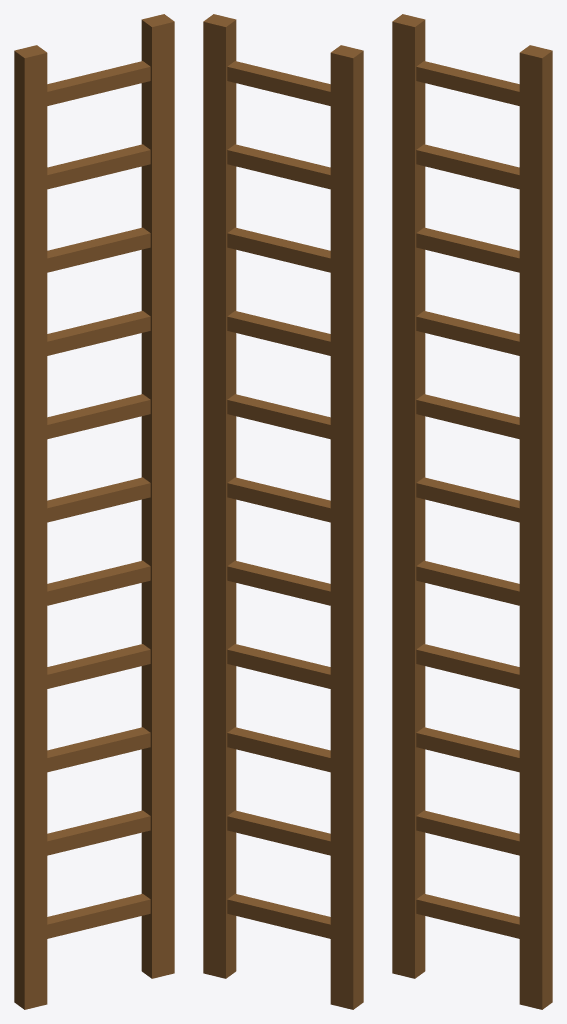
File: ladder.glb
3 views of the same model, side by side, from view 1: azimuth 30°, elevation 25°; view 2: azimuth 150°, elevation 25°; view 3: azimuth 330°, elevation 25° (orthographic).
Parts seen in each view (by area): view 1: Rail, _MeshInstance3D_7, _MeshInstance3D_8, _MeshInstance3D_9, _MeshInstance3D_16, Rung, _MeshInstance3D_15, _MeshInstance3D_17, _MeshInstance3D_10, _MeshInstance3D_12, _MeshInstance3D_13, _MeshInstance3D_14 (+1 smaller); view 2: Rail, _MeshInstance3D_7, _MeshInstance3D_8, _MeshInstance3D_9, _MeshInstance3D_16, Rung, _MeshInstance3D_15, _MeshInstance3D_17, _MeshInstance3D_10, _MeshInstance3D_12, _MeshInstance3D_13, _MeshInstance3D_14 (+1 smaller); view 3: _MeshInstance3D_7, Rail, _MeshInstance3D_8, _MeshInstance3D_9, _MeshInstance3D_16, Rung, _MeshInstance3D_15, _MeshInstance3D_17, _MeshInstance3D_10, _MeshInstance3D_12, _MeshInstance3D_13, _MeshInstance3D_14 (+1 smaller).
Part boxes in pixels (x1,y1,x2,y2): Rail: (14, 45, 47, 1009); _MeshInstance3D_7: (141, 14, 174, 978); _MeshInstance3D_8: (47, 810, 150, 855); _MeshInstance3D_9: (47, 727, 150, 772); _MeshInstance3D_16: (47, 144, 150, 189); Rung: (47, 893, 150, 938); _MeshInstance3D_15: (47, 227, 150, 272); _MeshInstance3D_17: (47, 61, 150, 105); _MeshInstance3D_10: (47, 644, 150, 688); _MeshInstance3D_12: (47, 477, 150, 522); _MeshInstance3D_13: (47, 394, 150, 439); _MeshInstance3D_14: (47, 311, 150, 355); Rail: (330, 45, 363, 1009); _MeshInstance3D_7: (203, 14, 236, 978); _MeshInstance3D_8: (227, 810, 330, 855); _MeshInstance3D_9: (227, 727, 330, 772); _MeshInstance3D_16: (227, 144, 330, 189); Rung: (227, 893, 330, 938); _MeshInstance3D_15: (227, 227, 330, 272); _MeshInstance3D_17: (227, 61, 330, 105); _MeshInstance3D_10: (227, 644, 330, 688); _MeshInstance3D_12: (227, 477, 330, 522); _MeshInstance3D_13: (227, 394, 330, 439); _MeshInstance3D_14: (227, 311, 330, 355); _MeshInstance3D_7: (519, 45, 552, 1009); Rail: (392, 14, 425, 978); _MeshInstance3D_8: (416, 810, 519, 855); _MeshInstance3D_9: (416, 727, 519, 772); _MeshInstance3D_16: (416, 144, 519, 189); Rung: (416, 893, 519, 938); _MeshInstance3D_15: (416, 227, 519, 272); _MeshInstance3D_17: (416, 61, 519, 105); _MeshInstance3D_10: (416, 644, 519, 688); _MeshInstance3D_12: (416, 477, 519, 522); _MeshInstance3D_13: (416, 394, 519, 439); _MeshInstance3D_14: (416, 311, 519, 355).
Size of the model in its own units: 0.66 by 4 by 0.08.
